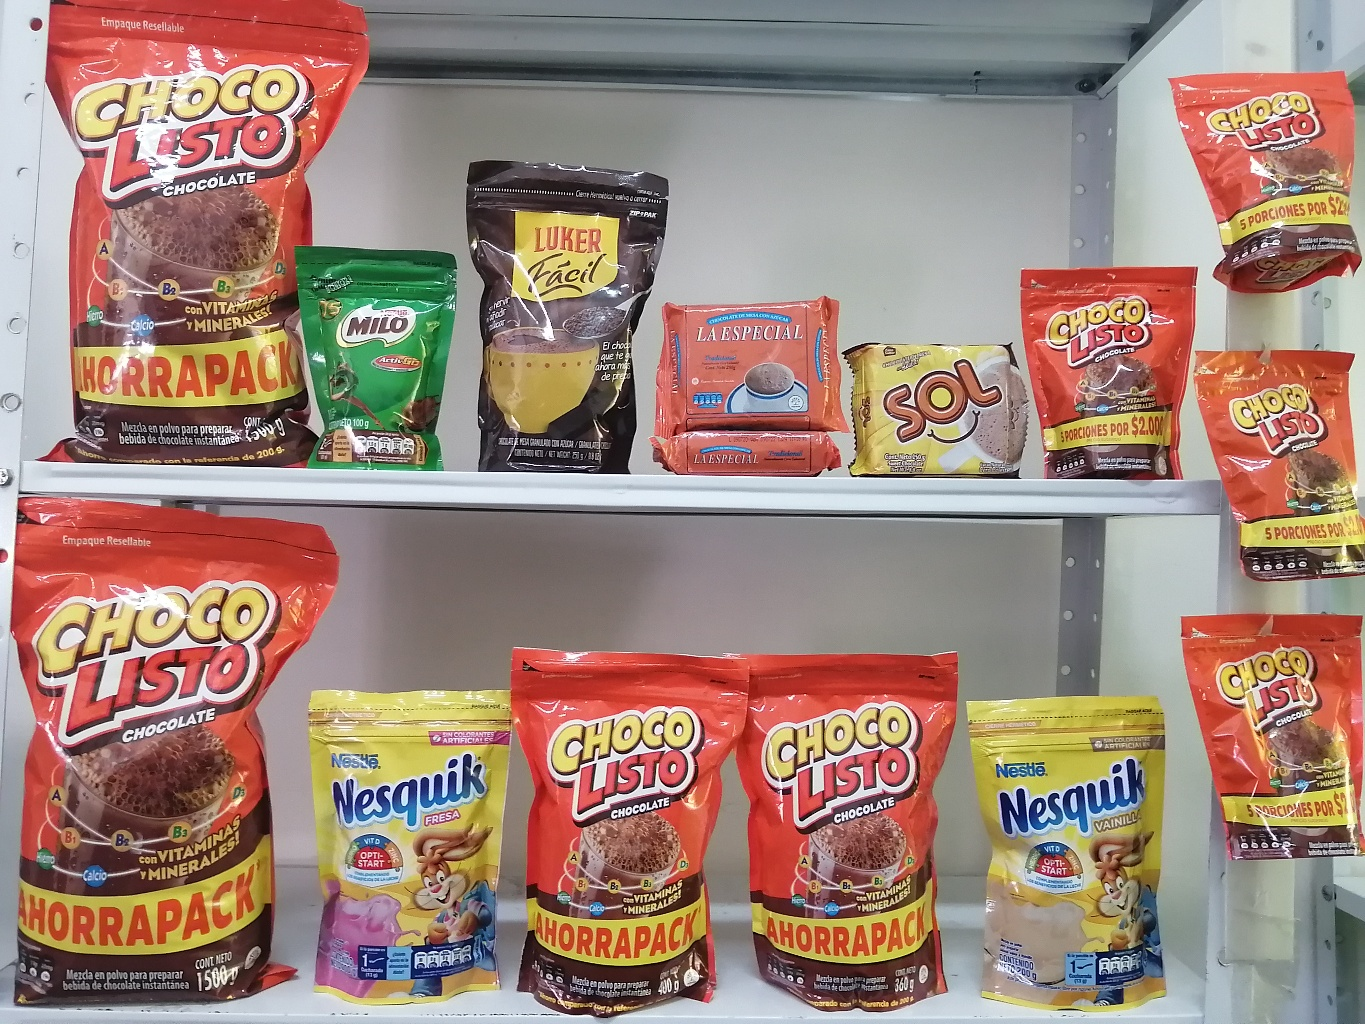COL0170103DYP1,500: (10, 497, 339, 1016)
COL0170103DYP10000: (1178, 68, 1357, 291)
COL0170103DYP36000: (738, 638, 968, 1019)
COL0170103DYP40000: (507, 648, 749, 1024)
COL0170203DYP10000: (289, 230, 460, 479)
COL0170305DYP20000: (297, 687, 511, 1012)
COL0170306DYP20000: (973, 680, 1192, 1004)
